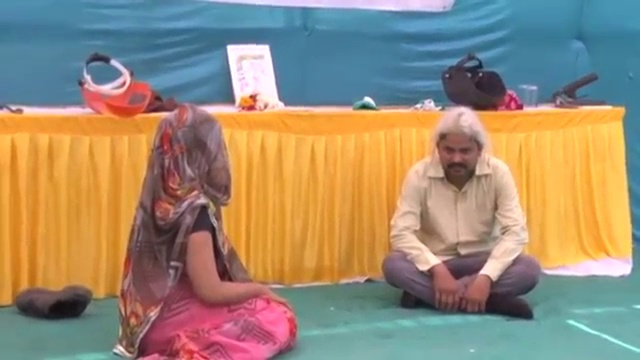helmet_off: (148, 105, 233, 210), (436, 108, 486, 181)
person: (116, 104, 298, 360), (381, 104, 541, 321)
